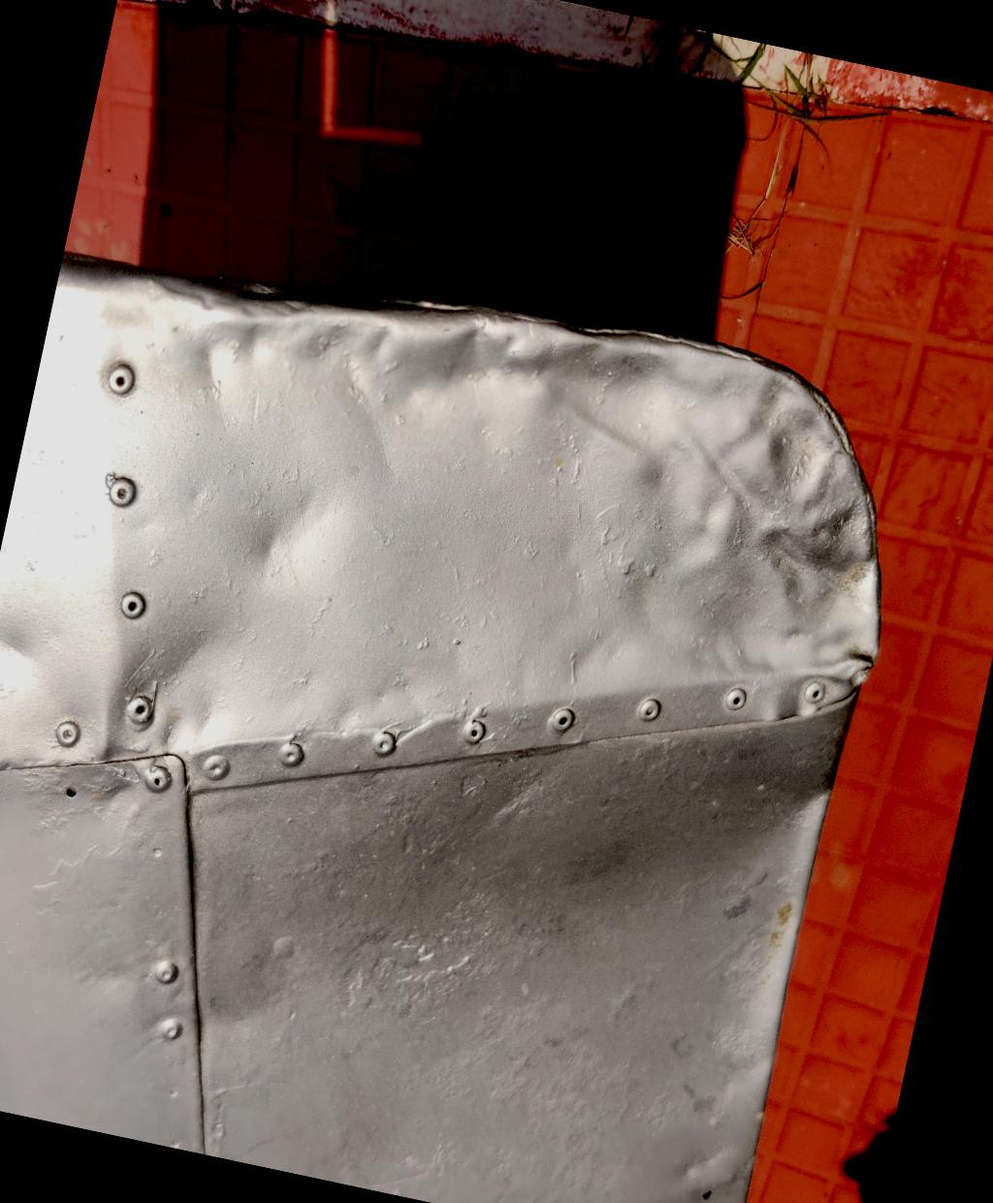dent: (37, 191, 690, 504), (548, 307, 955, 753), (75, 567, 266, 783), (206, 437, 385, 633), (0, 567, 82, 728)
